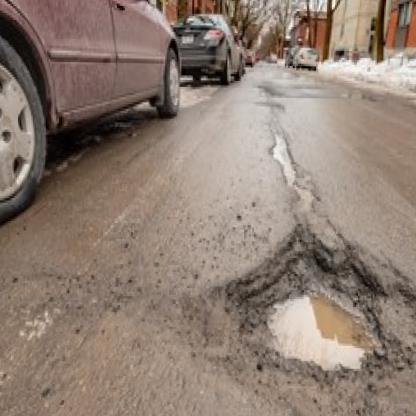pothole: (224, 247, 401, 413)
